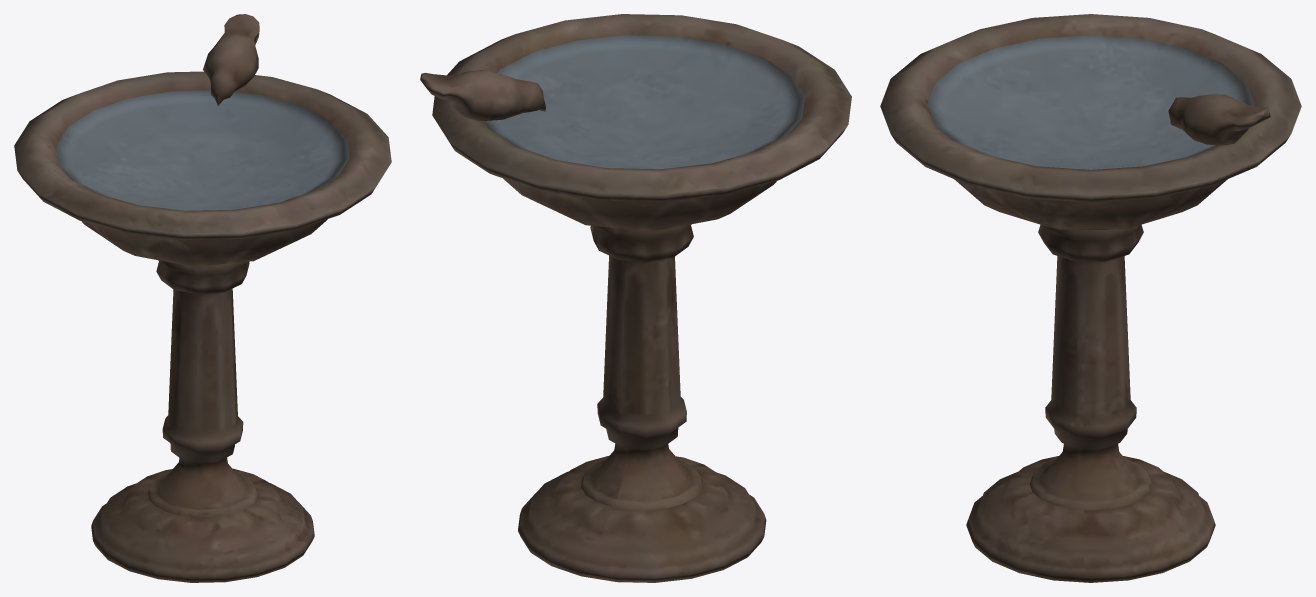
File: birdbath.glb
3 views of the same model, side by side, from view 1: azimuth 30°, elevation 25°; view 2: azimuth 150°, elevation 25°; view 3: azimuth 270°, elevation 25° (orthographic). The views are drawn at different scales.
Bounding box in the file's own units: 7.61 × 9.67 × 7.61.
Materials: 2 (1 with a texture image).
